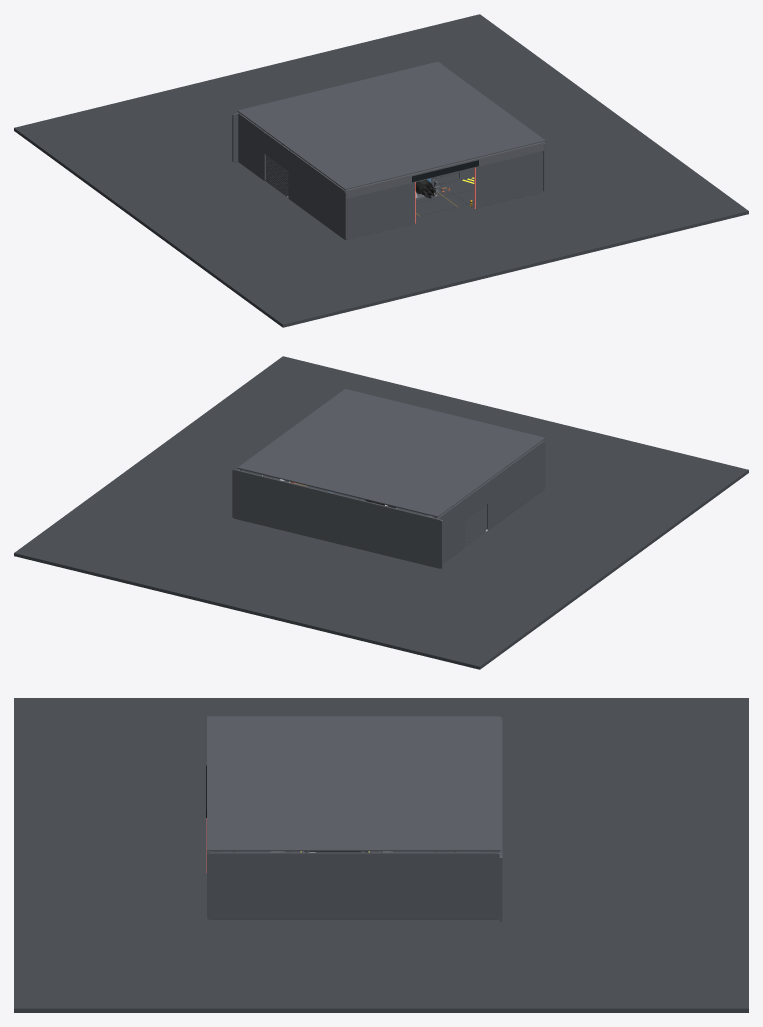
The model's file is bay02_arch.glb.
3 views of the same model, one above another, from view 1: azimuth 30°, elevation 25°; view 2: azimuth 150°, elevation 25°; view 3: azimuth 270°, elevation 25° (orthographic). The views are drawn at different scales.
Parts seen in each view (by area): view 1: WALLS_Floor_South, WALLS_Floor_North, Roof envelope, WALLS_Floor_West, WALLS_Left_South, Entrance wall wing.001, Entrance wall wing, WALLS_Floor_East, Entrance header, WALLS_Left_North, WALLS_RollerDoor, WALLS_Left_Header; view 2: WALLS_Floor_North, WALLS_Floor_South, Roof envelope, WALLS_Back, WALLS_Floor_West, WALLS_Left_South, WALLS_Floor_East, WALLS_Left_North, WALLS_RollerDoor, WALLS_Left_Header; view 3: WALLS_Floor_North, WALLS_Floor_South, Roof envelope, WALLS_Right, WALLS_Floor_East, WALLS_Floor_West, WALLS_Back.
Part boxes in pixels (bbox=[...]): WALLS_Floor_South: bbox=[177, 134, 748, 327]; WALLS_Floor_North: bbox=[14, 14, 618, 232]; Roof envelope: bbox=[237, 61, 545, 190]; WALLS_Floor_West: bbox=[153, 197, 309, 249]; WALLS_Left_South: bbox=[288, 150, 347, 239]; Entrance wall wing.001: bbox=[474, 151, 542, 208]; Entrance wall wing: bbox=[347, 182, 414, 239]; WALLS_Floor_East: bbox=[431, 116, 642, 184]; Entrance header: bbox=[345, 142, 544, 198]; WALLS_Left_North: bbox=[238, 113, 265, 180]; WALLS_RollerDoor: bbox=[266, 155, 288, 196]; WALLS_Left_Header: bbox=[264, 132, 289, 170]; WALLS_Floor_North: bbox=[14, 451, 619, 669]; WALLS_Floor_South: bbox=[177, 356, 748, 549]; Roof envelope: bbox=[237, 389, 545, 517]; WALLS_Back: bbox=[232, 469, 442, 568]; WALLS_Floor_West: bbox=[397, 508, 643, 566]; WALLS_Left_South: bbox=[487, 440, 545, 530]; WALLS_Floor_East: bbox=[154, 433, 365, 500]; WALLS_Left_North: bbox=[437, 499, 464, 563]; WALLS_RollerDoor: bbox=[464, 504, 486, 546]; WALLS_Left_Header: bbox=[463, 482, 487, 519]; WALLS_Floor_North: bbox=[367, 698, 748, 1012]; WALLS_Floor_South: bbox=[14, 698, 302, 1012]; Roof envelope: bbox=[207, 716, 500, 851]; WALLS_Right: bbox=[207, 852, 499, 919]; WALLS_Floor_East: bbox=[302, 920, 367, 1012]; WALLS_Floor_West: bbox=[302, 698, 367, 716]; WALLS_Back: bbox=[499, 718, 502, 921].
Bounding box in the file's own units: 80 × 22.64 × 80.
Materials: 98 (14 with a texture image).
